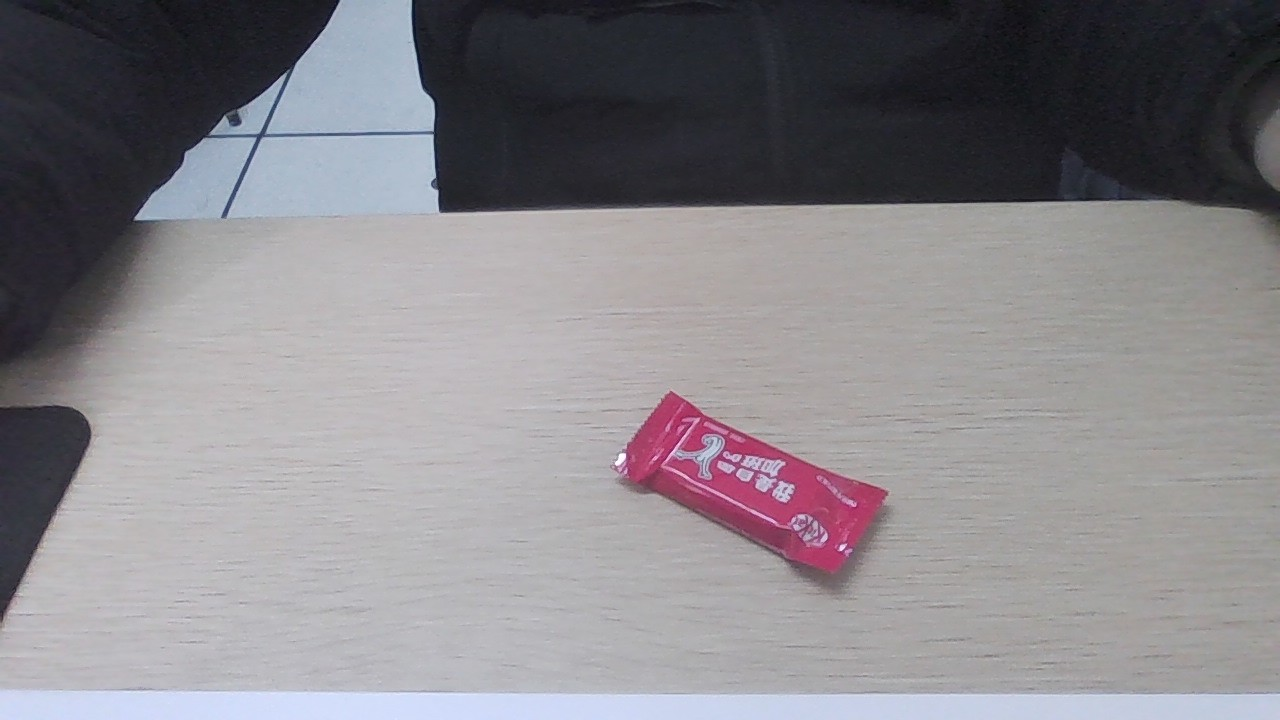CY-chocolate: (620, 391, 886, 568)
